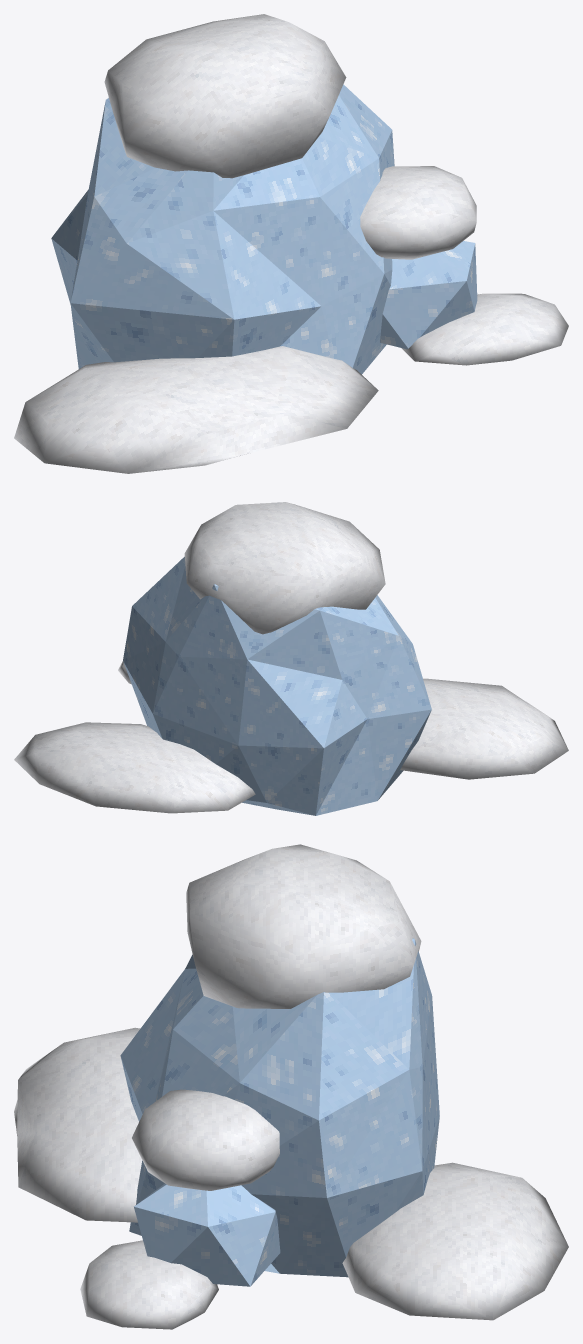
Rendered from glacier_boulder.glb.
3 views of the same model, one above another, from view 1: azimuth 30°, elevation 25°; view 2: azimuth 150°, elevation 25°; view 3: azimuth 270°, elevation 25° (orthographic). The views are drawn at different scales.
Visible parts, largest first — view 1: Snow, Boulder; view 2: Boulder, Snow; view 3: Snow, Boulder.
Part boxes in pixels (x1,y1,x2,y2): Snow: (14, 14, 568, 473); Boulder: (51, 84, 477, 374); Boulder: (123, 556, 431, 815); Snow: (14, 502, 568, 813); Snow: (14, 844, 568, 1329); Boulder: (120, 938, 439, 1286).
Size of the model in its own units: 4.63 by 2.62 by 3.85.
2 materials, 2 textured.
